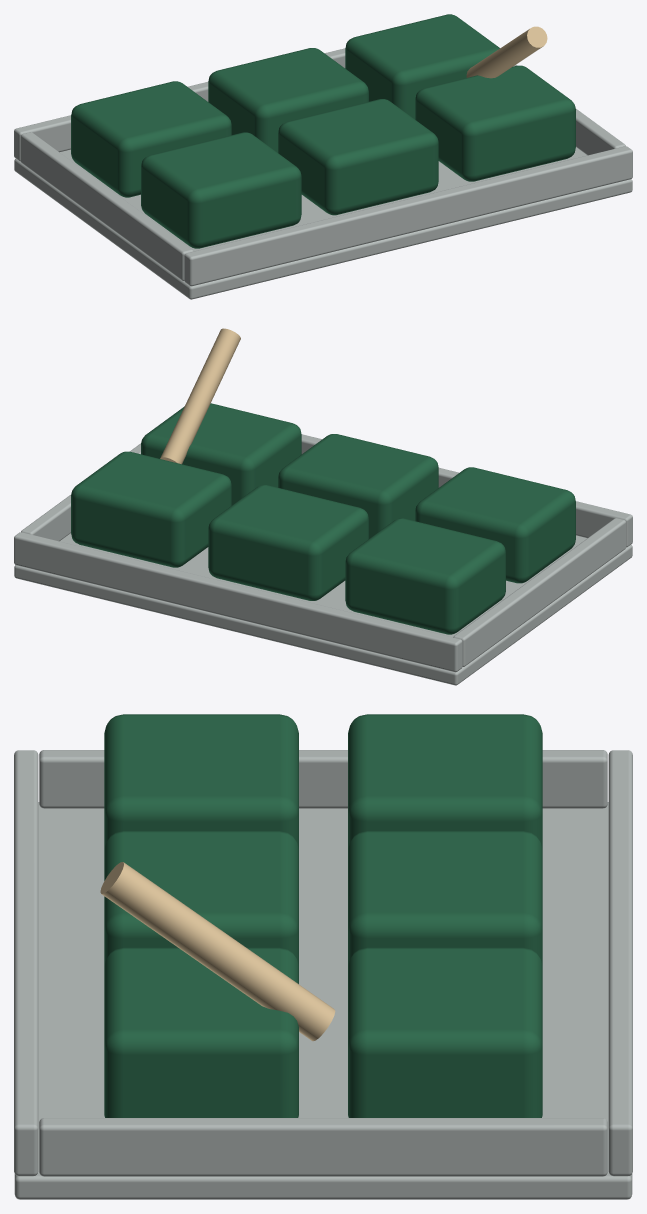
The model's file is cricket-ground-and-pavilion-turf-repair-tray-215d6925__31340.glb.
3 renders of one model, top to bottom at view 1: azimuth 30°, elevation 25°; view 2: azimuth 150°, elevation 25°; view 3: azimuth 270°, elevation 25°, orthographic. The views are drawn at different scales.
Visible parts, largest first — view 1: turf-repair-tray; view 2: turf-repair-tray; view 3: turf-repair-tray.
Part boxes in pixels (box(x1,y1,x2,y2)): turf-repair-tray: box(14, 14, 632, 299); turf-repair-tray: box(14, 328, 632, 685); turf-repair-tray: box(14, 714, 632, 1199).
Size of the model in its own units: 0.551 by 0.1895 by 0.381.
